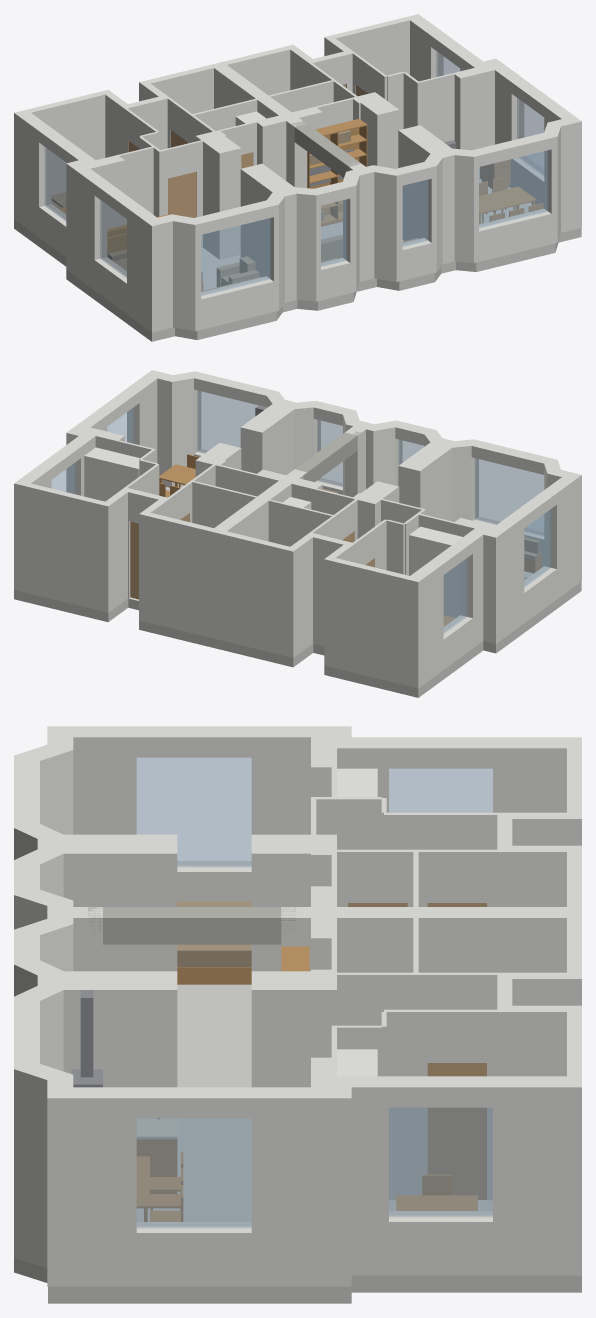
Rendered from V3_PASSAGE.glb.
3 renders of one model, top to bottom at view 1: azimuth 30°, elevation 25°; view 2: azimuth 150°, elevation 25°; view 3: azimuth 270°, elevation 25°, orthographic. The views are drawn at different scales.
Parts seen in each view (by area): view 1: 100041, 100002, 100048, 100021, 100037, 100014, 100062, 100058, 100079, 100036, 100017, 100044 (+56 smaller); view 2: 100041, 100009, 100036, 100031, 100005, 100037, 100002, 100062, 100080, 100014, 100078, 100058 (+47 smaller); view 3: 100014, 100010, 100002, 100041, 100003, 100060, 100078, 100064, 100059, 100037, 100025, 100080 (+45 smaller).
Part boxes in pixels (x1,y1,x2,y2): 100041: (66, 160, 156, 331); 100002: (14, 180, 581, 341); 100048: (194, 200, 278, 330); 100021: (471, 132, 557, 262); 100037: (14, 112, 95, 256); 100014: (484, 58, 581, 207); 100062: (201, 218, 270, 295); 100058: (479, 150, 547, 227); 100079: (203, 136, 241, 259); 100036: (15, 90, 107, 195); 100017: (395, 162, 436, 281); 100044: (314, 182, 356, 301); 100041: (483, 475, 581, 643); 100009: (14, 483, 108, 612); 100036: (324, 558, 418, 688); 100031: (216, 531, 293, 657); 100005: (139, 512, 217, 638); 100037: (410, 528, 487, 688); 100002: (14, 486, 581, 697); 100062: (475, 458, 544, 535); 100080: (398, 442, 452, 521); 100014: (66, 370, 157, 492); 100078: (240, 404, 294, 475); 100058: (197, 391, 257, 453); 100014: (47, 1087, 351, 1286); 100010: (337, 1076, 581, 1275); 100002: (14, 984, 581, 1303); 100041: (48, 726, 351, 900); 100003: (281, 907, 574, 972); 100060: (136, 1118, 251, 1227); 100078: (63, 971, 177, 1087); 100064: (136, 757, 251, 867); 100059: (389, 1107, 492, 1217); 100037: (337, 737, 581, 812); 100025: (384, 1009, 497, 1200); 100080: (63, 834, 177, 971).
Size of the model in its own units: 11.85 by 3.05 by 7.65.
